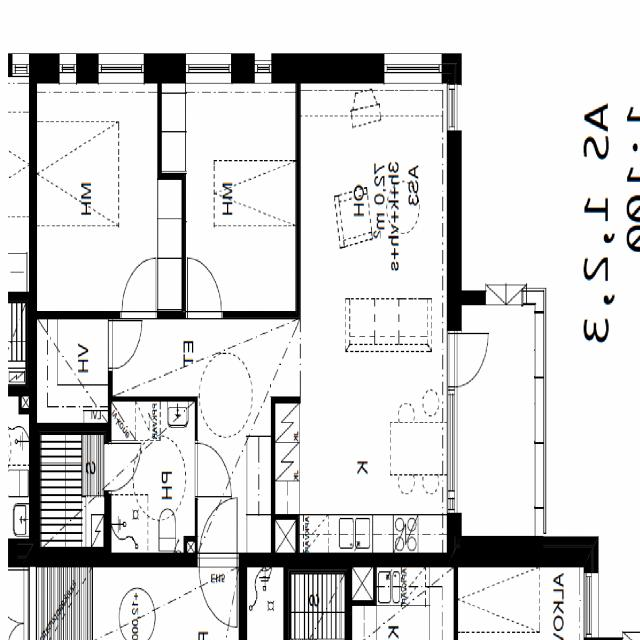door: (200, 552, 238, 629), (200, 491, 238, 567), (447, 334, 495, 388), (188, 257, 222, 319), (122, 259, 155, 319), (195, 443, 231, 496), (108, 321, 142, 368), (104, 445, 140, 489)
